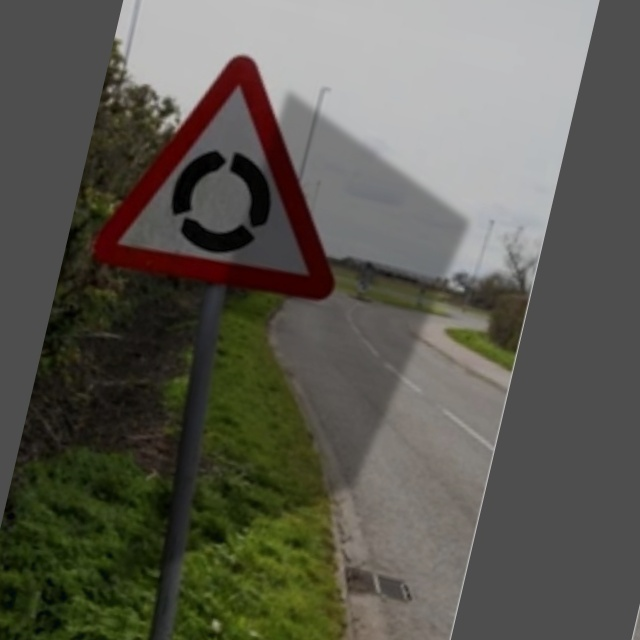Round_About: (105, 33, 376, 304)
